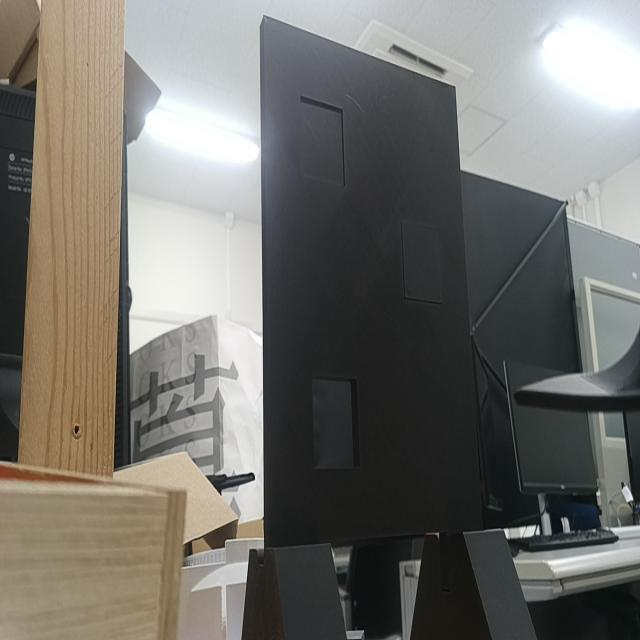Obstacle: (312, 380, 358, 468)
Wall: (260, 16, 484, 547)
